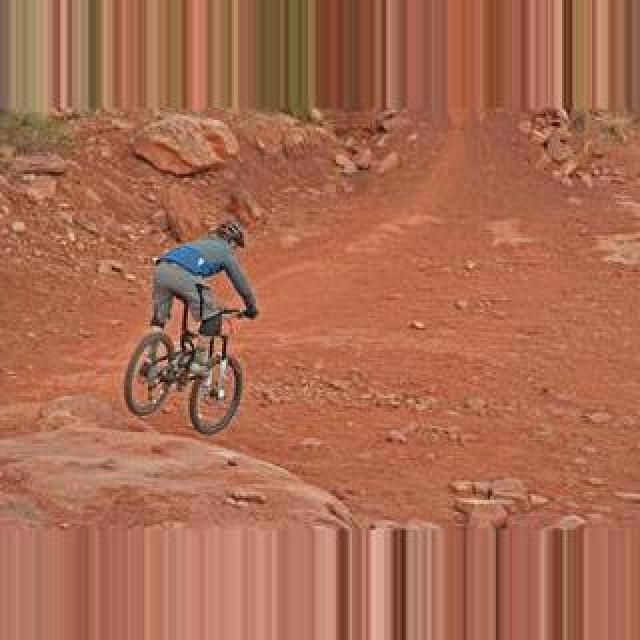MC-Bike: (150, 220, 258, 358)
Person: (123, 308, 247, 436)
